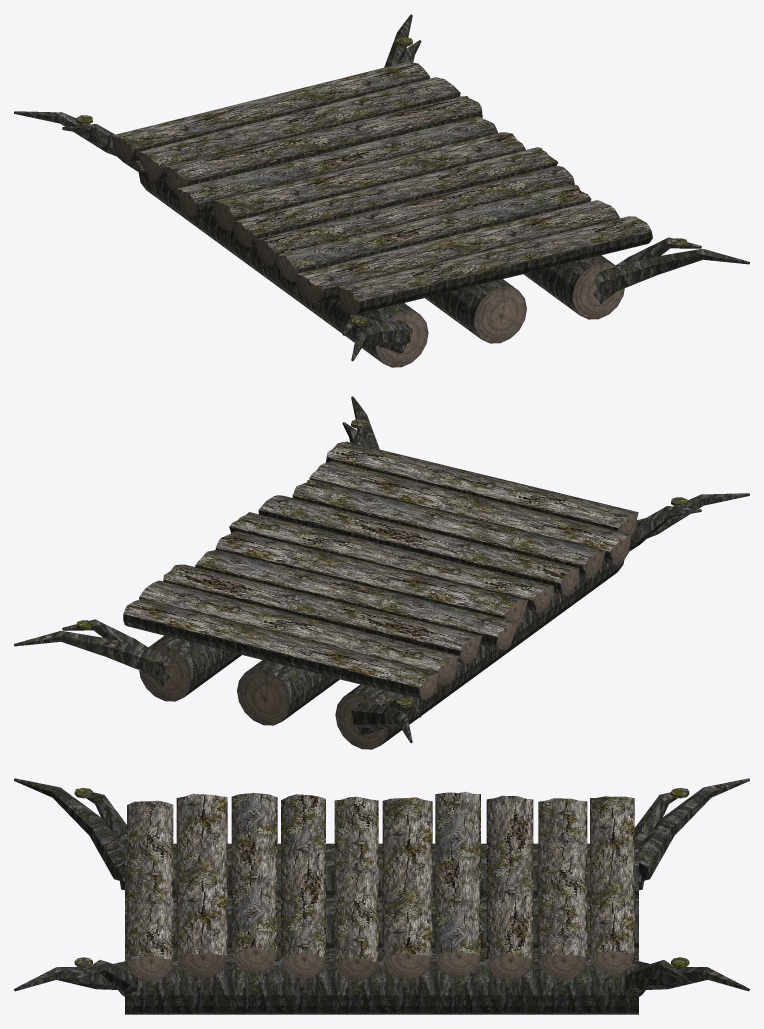
The model's file is bridge-log.glb.
3 renders of one model, top to bottom at view 1: azimuth 30°, elevation 25°; view 2: azimuth 150°, elevation 25°; view 3: azimuth 270°, elevation 25°, orthographic. The views are drawn at different scales.
Parts seen in each view (by area): view 1: halflog0, halflog1, halflog8, halflog4, halflog5, halflog7, halflog2, halflog9, halflog6, halflog3, trunk0, trunk1 (+6 smaller); view 2: halflog9, halflog3, halflog1, halflog7, halflog5, halflog6, halflog2, halflog0, halflog8, halflog4, trunk0, trunk1 (+6 smaller); view 3: trunk2, halflog1, halflog5, halflog8, halflog7, halflog6, halflog0, halflog2, halflog3, halflog4, halflog9, trunk0 (+9 smaller).
Boxes of the visible parts, <box> form: halflog0: <box>338,216,652,314</box>; halflog1: <box>295,200,619,304</box>; halflog8: <box>137,77,460,181</box>; halflog4: <box>232,147,558,247</box>; halflog5: <box>213,132,525,231</box>; halflog7: <box>163,96,482,193</box>; halflog2: <box>276,184,591,282</box>; halflog9: <box>111,62,430,162</box>; halflog6: <box>175,116,497,216</box>; halflog3: <box>255,166,574,266</box>; trunk0: <box>138,172,428,367</box>; trunk1: <box>425,279,526,343</box>; halflog9: <box>123,598,440,700</box>; halflog3: <box>258,495,578,596</box>; halflog1: <box>309,461,631,565</box>; halflog7: <box>163,564,482,663</box>; halflog5: <box>215,531,528,626</box>; halflog6: <box>195,549,518,650</box>; halflog2: <box>292,479,605,578</box>; halflog0: <box>326,441,638,535</box>; halflog8: <box>139,580,459,685</box>; halflog4: <box>229,512,554,612</box>; trunk0: <box>335,560,624,749</box>; trunk1: <box>237,660,339,725</box>; trunk2: <box>125,948,638,1014</box>; halflog1: <box>176,793,227,978</box>; halflog5: <box>382,797,432,980</box>; halflog8: <box>538,798,587,979</box>; halflog7: <box>486,795,533,980</box>; halflog6: <box>435,791,480,976</box>; halflog0: <box>127,800,173,982</box>; halflog2: <box>231,793,277,972</box>; halflog3: <box>281,794,325,979</box>; halflog4: <box>334,796,378,980</box>; halflog9: <box>590,796,634,974</box>; trunk0: <box>125,843,638,895</box>.
Bounding box in the file's own units: 4.86 × 0.9179 × 7.16.
4 materials, 4 textured.
